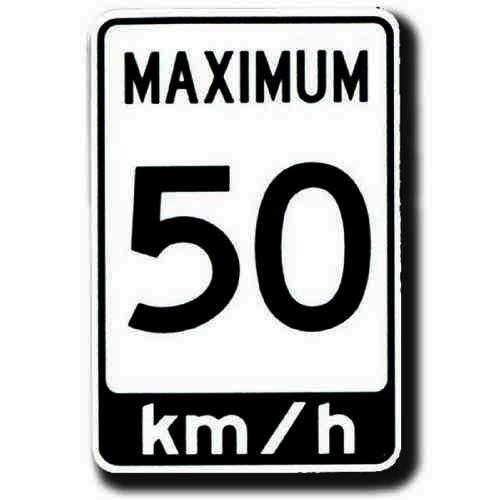speed limit sign: (89, 10, 404, 476)
